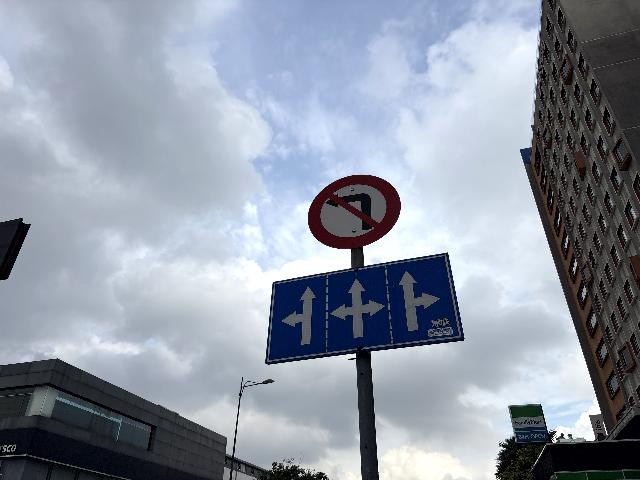cam-re-trai: (306, 171, 403, 249)
